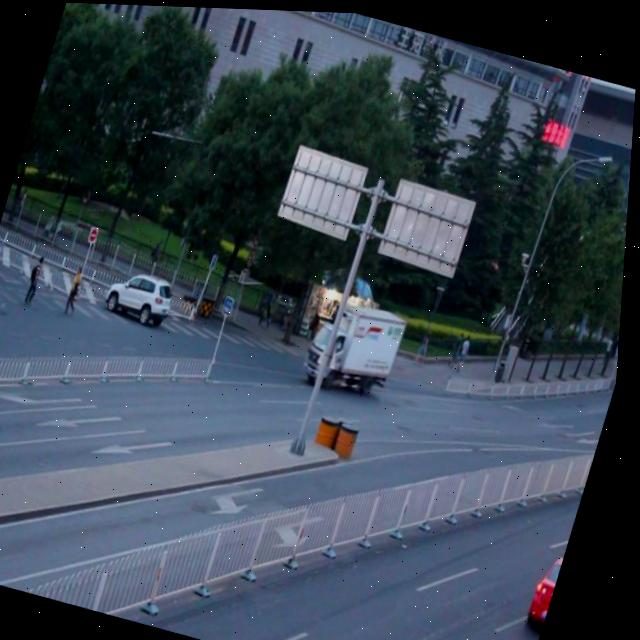bus: (302, 293, 411, 402)
car: (105, 261, 182, 325), (531, 540, 573, 621)
